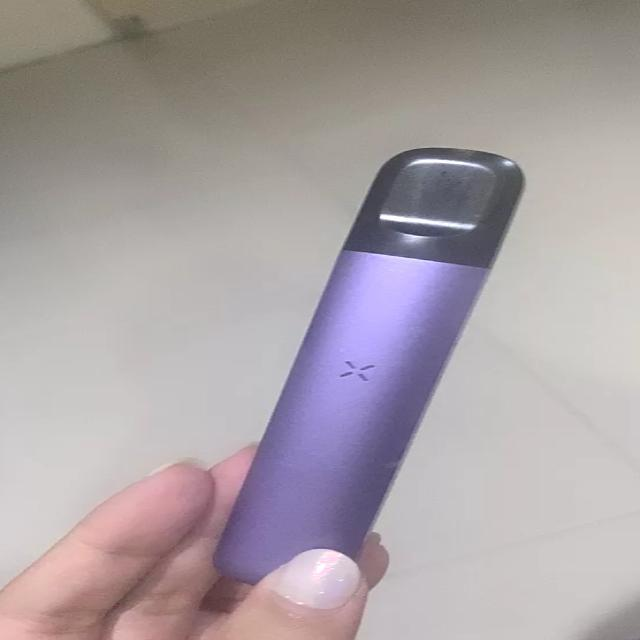Hazard: (217, 147, 528, 584)
